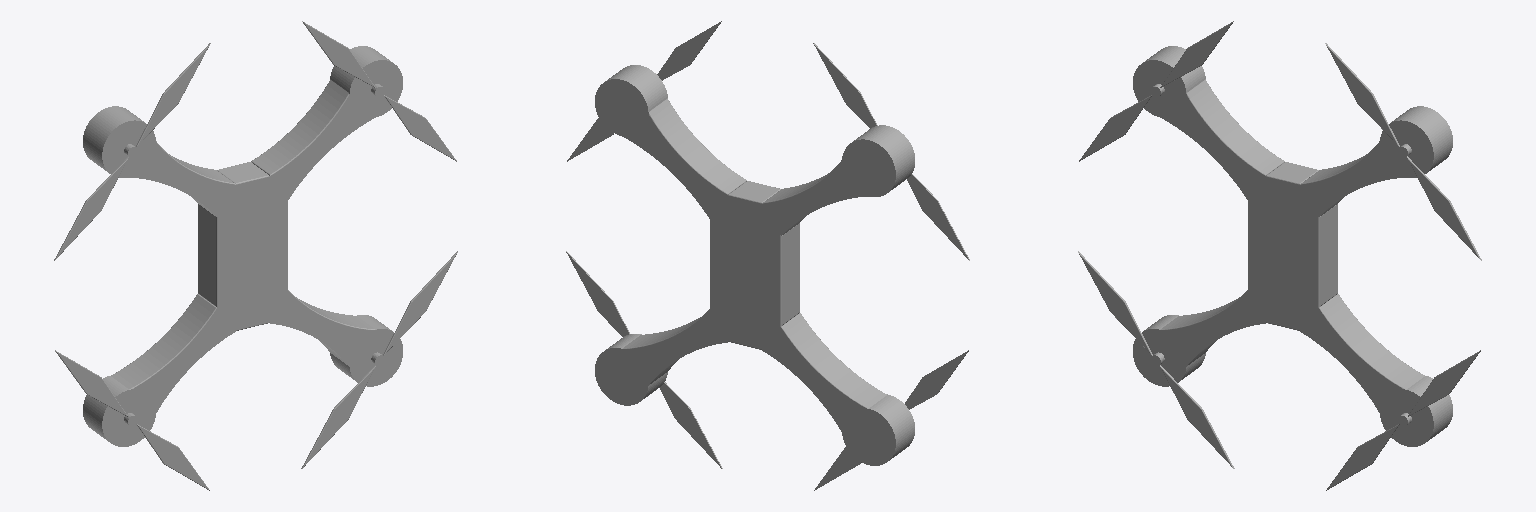
robot.urdf — my_arm:
<?xml version="1.0"?>
<robot name="my_arm" xmlns:xacro="http://www.ros.org/wiki/xacro">
  
<link name="base_link">
  <visual>
    <geometry>
      <mesh filename="package://drone_sim/meshes/drone.stl" scale="0.001 0.001 0.001"/>
    </geometry>
    <material name="gray">
      <color rgba="0.7 0.7 0.7 1"/>
    </material>
  </visual>

  <collision>
    <geometry>
      <mesh filename="package://drone_sim/meshes/drone.stl" scale="0.001 0.001 0.001"/>
    </geometry>
  </collision>

  <inertial>
    <mass value="1.0"/>
    <inertia ixx="0.01" ixy="0.0" ixz="0.0" iyy="0.01" iyz="0.0" izz="0.01"/>
  </inertial>
</link>

 <plugin name="drone_thrust_plugin" filename="libdrone_thrust_plugin.so"/>

</robot>

--- Render facts (derived) ---
3 views of the same robot in one strip: view 1: azimuth 30°, elevation 25°; view 2: azimuth 150°, elevation 25°; view 3: azimuth 330°, elevation 25° (orthographic).
Robot: my_arm — 1 links, 0 joints (none); root link base_link; default pose: all joints at 0.
Visible links, largest first — view 1: base_link; view 2: base_link; view 3: base_link.
Boxes of the visible links, x1,y1,x2,y2 form: base_link: [54, 21, 457, 490]; base_link: [566, 21, 969, 490]; base_link: [1078, 21, 1481, 490].
Bounding box of the posed robot: 0.5984 × 0.06 × 0.6355 m (x, y, z).
Meshes: 1 distinct files referenced, 1 mesh visuals loaded (1 binary STL).